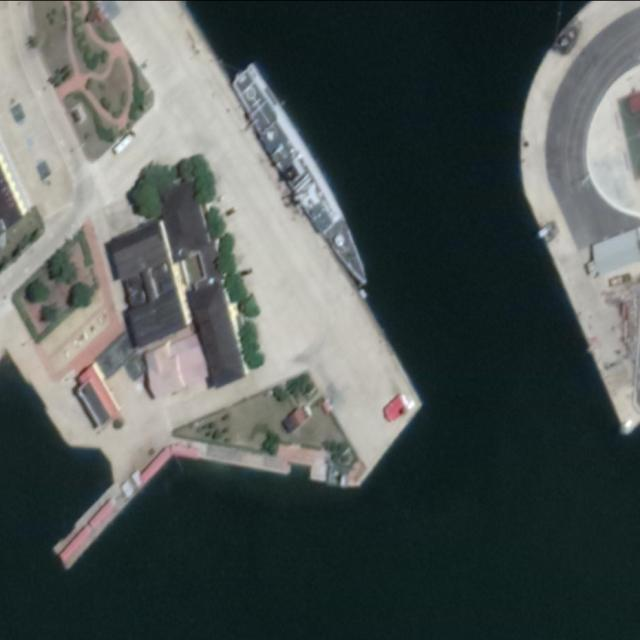Auxiliary Ships: (226, 58, 380, 294)
